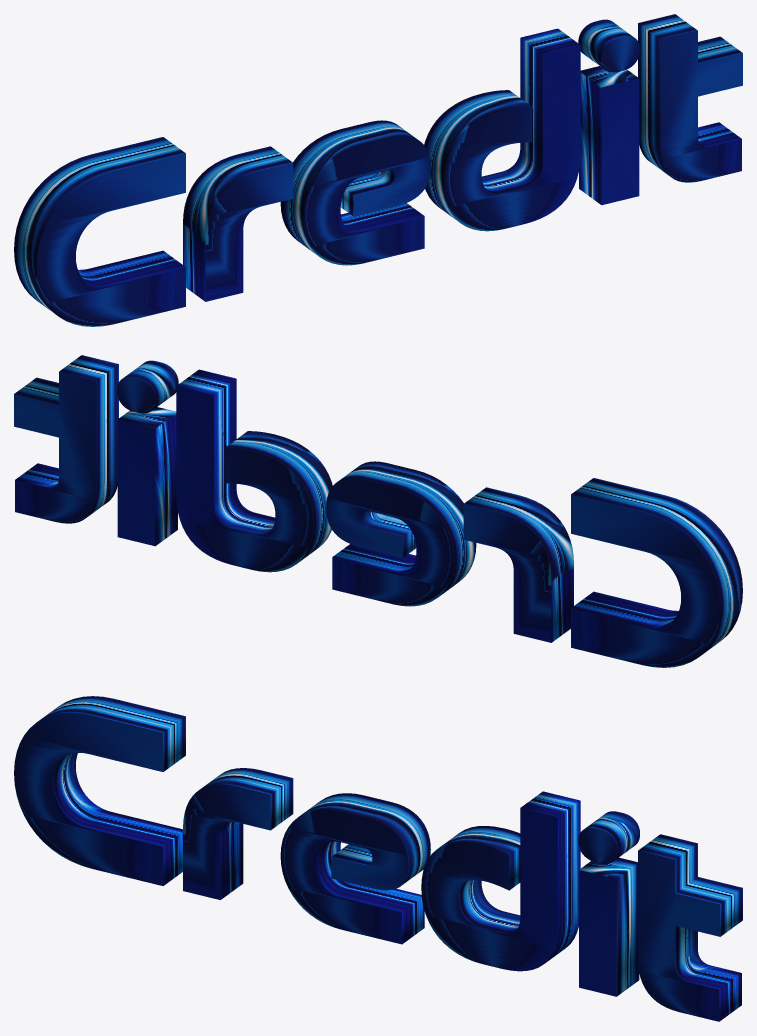
File: credit.glb
3 views of the same model, one above another, from view 1: azimuth 30°, elevation 25°; view 2: azimuth 150°, elevation 25°; view 3: azimuth 330°, elevation 25° (orthographic).
Parts seen in each view (by area): view 1: Text; view 2: Text; view 3: Text.
Boxes of the visible parts, x1,y1,x2,y2 form: Text: [14, 14, 742, 326]; Text: [14, 355, 742, 667]; Text: [14, 696, 742, 1021].
Bounding box in the file's own units: 2.16 × 0.4845 × 0.12.
1 material, 1 textured.
